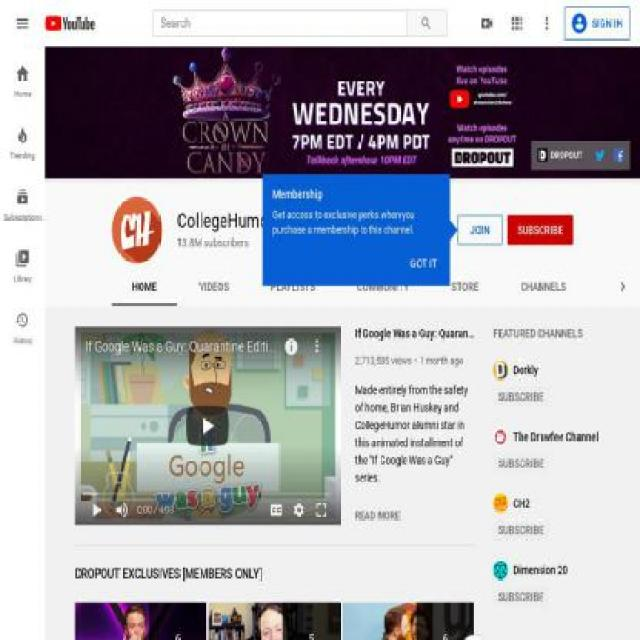button: (75, 602, 207, 640), (209, 602, 340, 640), (343, 602, 474, 640), (477, 602, 608, 640), (355, 538, 523, 557), (75, 566, 262, 582), (0, 50, 45, 112), (0, 173, 45, 235), (0, 235, 45, 297), (0, 112, 45, 173), (0, 297, 45, 358), (493, 360, 610, 380), (493, 427, 610, 447), (493, 493, 610, 513), (493, 560, 610, 580), (355, 592, 480, 610), (564, 7, 630, 39), (507, 216, 573, 247), (531, 140, 589, 171), (186, 406, 229, 446), (355, 326, 477, 340), (398, 248, 448, 280), (457, 216, 503, 247), (607, 266, 638, 306), (405, 9, 447, 37), (493, 387, 550, 407), (493, 453, 550, 473), (493, 520, 550, 540), (493, 587, 550, 607), (302, 326, 333, 362), (610, 602, 639, 640), (44, 13, 96, 33), (82, 494, 111, 526), (355, 506, 400, 525), (280, 326, 303, 362), (264, 494, 288, 526), (588, 140, 612, 171), (287, 494, 310, 526), (112, 494, 133, 526), (311, 494, 332, 526), (612, 140, 631, 171), (479, 13, 495, 33), (509, 13, 525, 33), (539, 13, 555, 33), (15, 13, 30, 33)
field: (160, 12, 405, 34)
